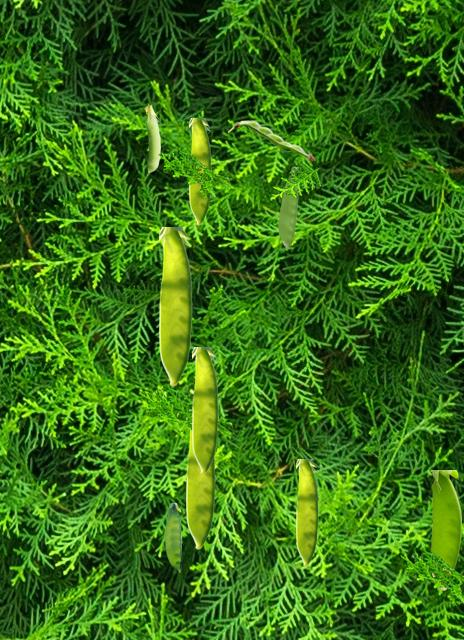pea: (159, 227, 191, 385), (430, 470, 460, 589), (228, 120, 314, 159), (186, 431, 214, 548), (192, 347, 217, 473), (296, 459, 317, 565), (189, 118, 210, 224), (278, 166, 297, 247), (144, 103, 159, 171), (165, 503, 180, 571)
